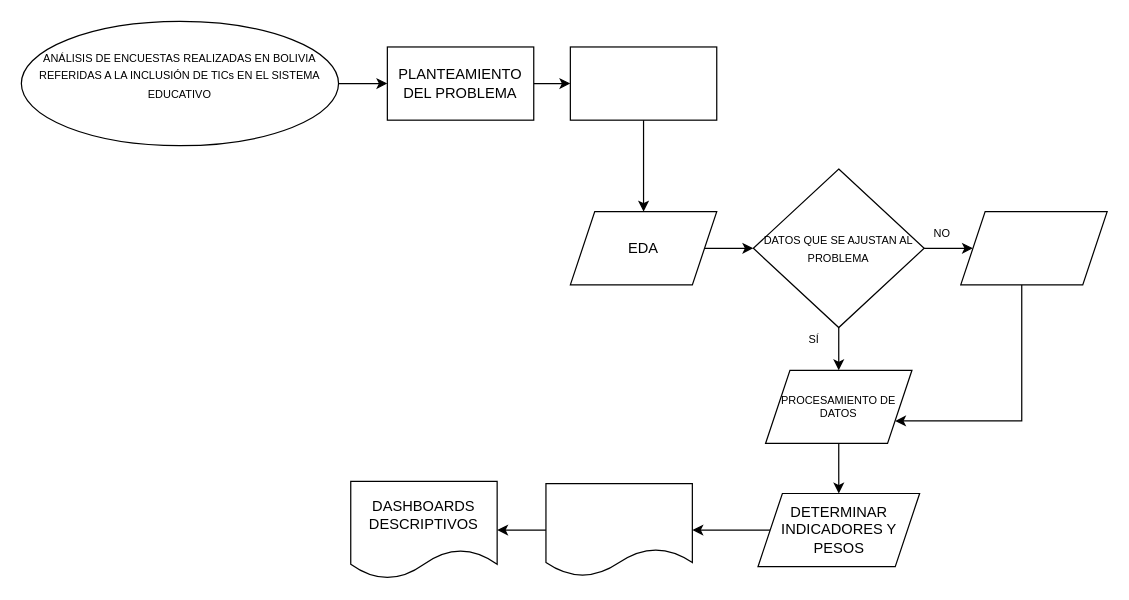
Some shapes in this 1129 by 600 pixel diagram are drawn without their labels. The centre of each missing label's shape, as x and y in pixels:
DATASET ENRIQUECIDO: the point at 618,529
LIMPIEZA Y ORDENAMIENTO DE DATOS: the point at 1033,247
RECOPILACIÓN DE DATOS: the point at 643,83
